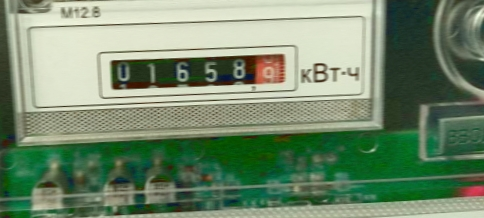0: (116, 59, 130, 82)
1: (146, 61, 157, 83)
5: (203, 59, 218, 82)
6: (174, 59, 189, 82)
8: (231, 56, 246, 79)
9: (260, 64, 275, 85)
screen: (91, 35, 306, 106)
